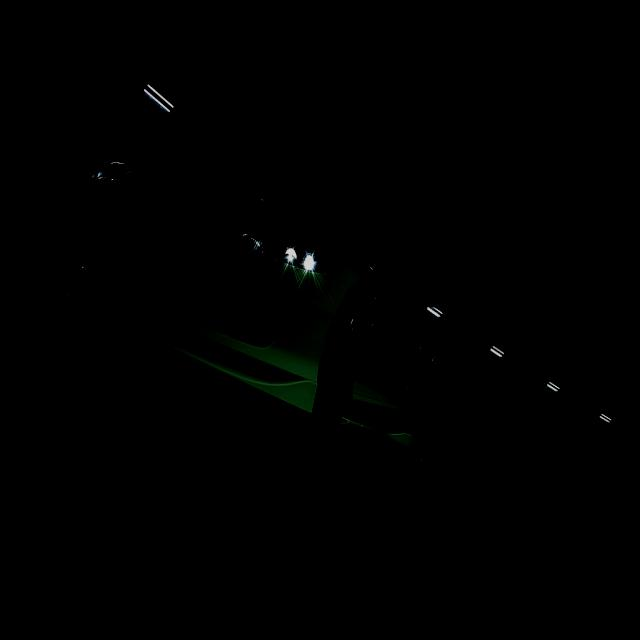Car: (62, 138, 440, 464)
